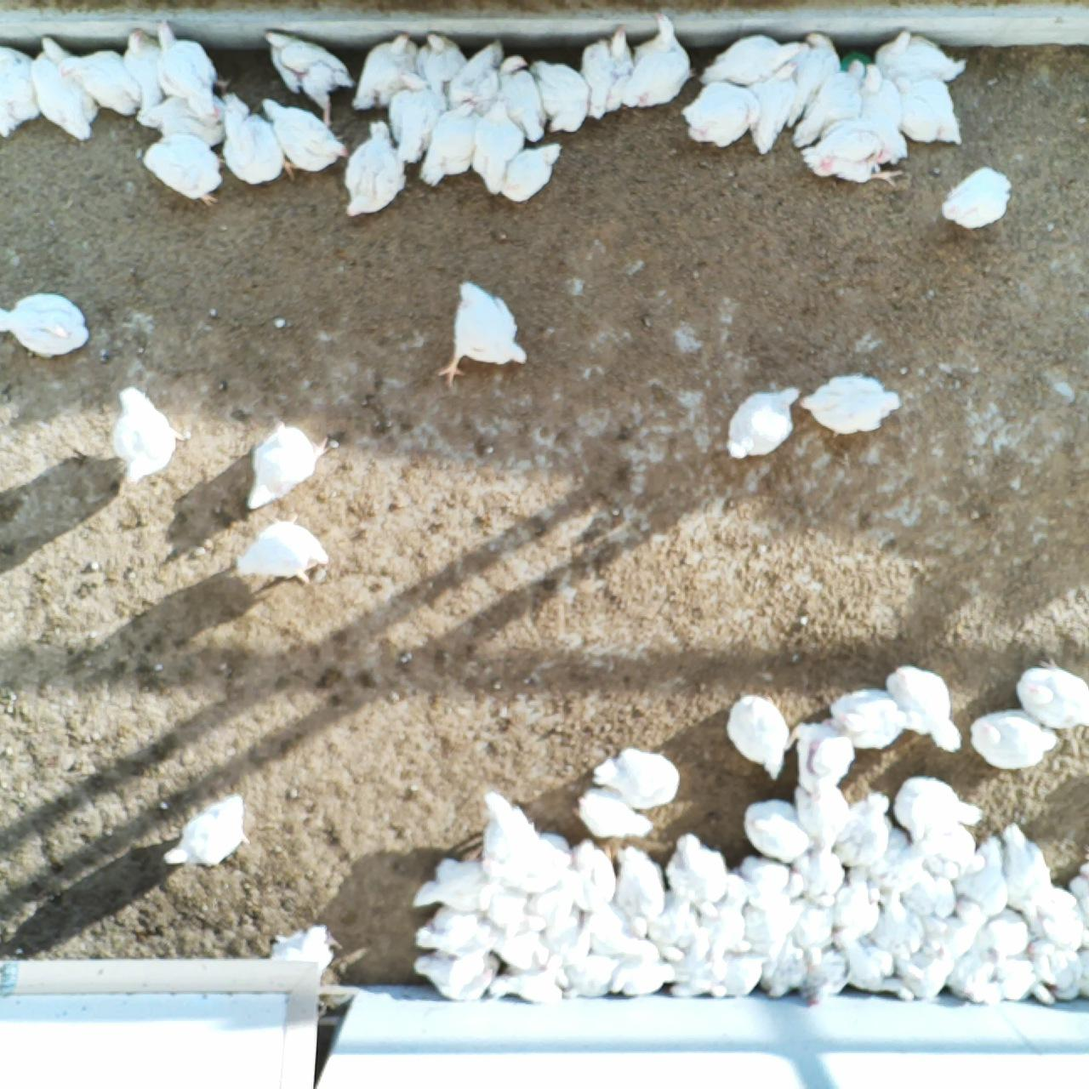chicken: (441, 276, 532, 388), (258, 27, 357, 127), (478, 795, 570, 895), (240, 417, 332, 512), (106, 385, 190, 483), (623, 12, 702, 113), (257, 95, 349, 181), (153, 19, 230, 116), (339, 117, 410, 222), (234, 515, 329, 592), (888, 666, 968, 757), (216, 96, 294, 189), (30, 34, 98, 140), (799, 371, 908, 437), (142, 134, 235, 209), (573, 22, 641, 122), (792, 59, 866, 150), (659, 831, 733, 922), (0, 289, 96, 359), (163, 792, 251, 868), (779, 29, 842, 133), (821, 681, 909, 754), (803, 124, 903, 188), (884, 71, 965, 150), (722, 689, 791, 781), (894, 772, 984, 842), (740, 59, 801, 160), (347, 33, 424, 112), (384, 68, 448, 163), (727, 382, 803, 461), (850, 64, 908, 167), (119, 23, 177, 125), (701, 31, 804, 87), (683, 81, 770, 147), (410, 942, 497, 1007), (416, 99, 480, 187), (1015, 655, 1089, 731), (596, 746, 680, 812), (442, 38, 507, 123), (996, 824, 1058, 913), (604, 845, 665, 935), (743, 797, 822, 866), (791, 711, 857, 792), (60, 50, 145, 112), (529, 58, 594, 139), (973, 709, 1057, 771), (837, 934, 914, 1001), (875, 27, 968, 82), (417, 851, 502, 911), (473, 97, 521, 200), (0, 38, 48, 141), (498, 133, 566, 205), (745, 869, 810, 944), (827, 790, 891, 866), (135, 93, 223, 147), (955, 833, 1012, 914), (583, 909, 665, 965), (576, 784, 655, 842), (942, 166, 1015, 228), (644, 888, 709, 957), (892, 937, 958, 1003), (793, 780, 850, 856), (915, 820, 988, 879), (916, 895, 985, 957), (829, 865, 877, 954), (268, 923, 340, 981), (487, 952, 565, 1005), (1027, 880, 1085, 951), (659, 944, 731, 1001), (525, 884, 582, 956), (1026, 937, 1088, 1003), (407, 904, 491, 952), (498, 54, 546, 137), (947, 944, 1009, 1008), (794, 943, 851, 1012), (706, 874, 754, 955), (562, 840, 616, 911), (602, 948, 677, 999), (896, 862, 959, 921), (988, 953, 1054, 1009), (969, 907, 1032, 965), (872, 892, 926, 959), (412, 31, 459, 105), (488, 879, 550, 935), (791, 891, 837, 966), (866, 831, 911, 902), (731, 855, 793, 905), (792, 845, 840, 909), (716, 938, 763, 1003), (762, 935, 808, 998), (489, 925, 549, 972), (562, 958, 619, 1001), (1065, 861, 1089, 935)
